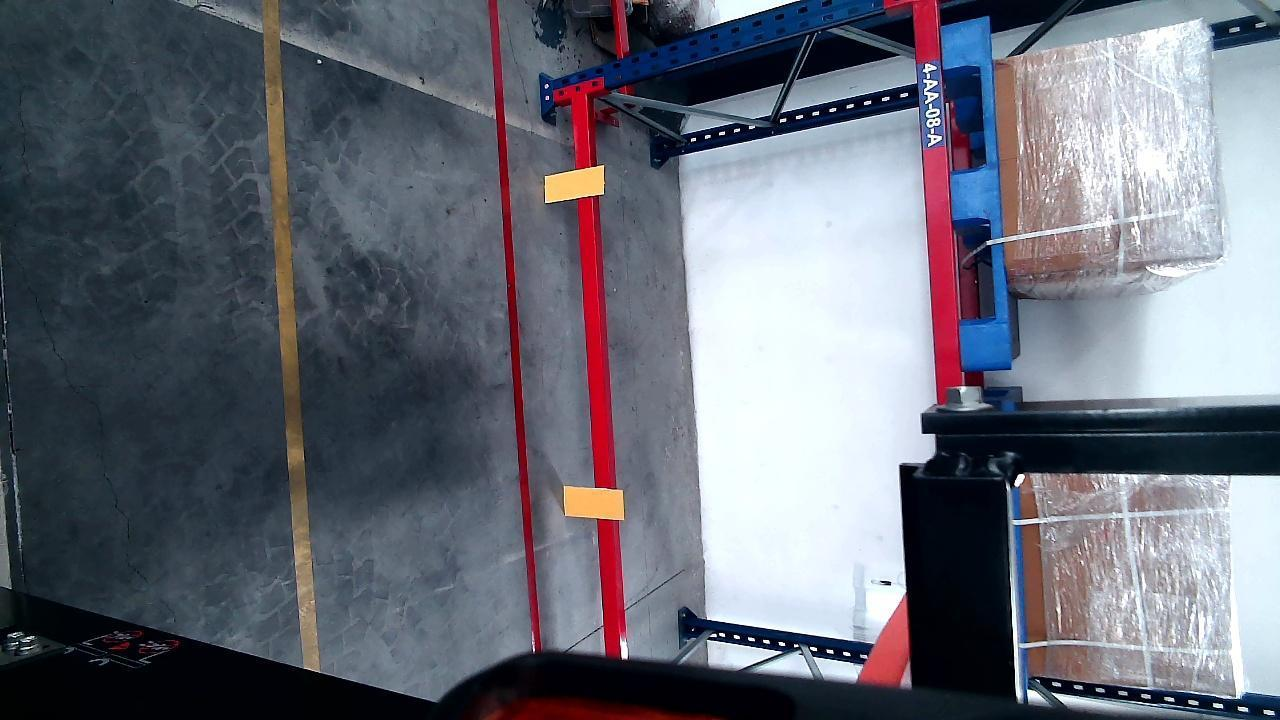h_rack: (574, 87, 621, 661), (912, 0, 964, 397)
orange_strip: (544, 166, 604, 202), (563, 486, 623, 518)
small_pallet: (938, 16, 1012, 369)
yellow_line: (256, 0, 322, 674)
